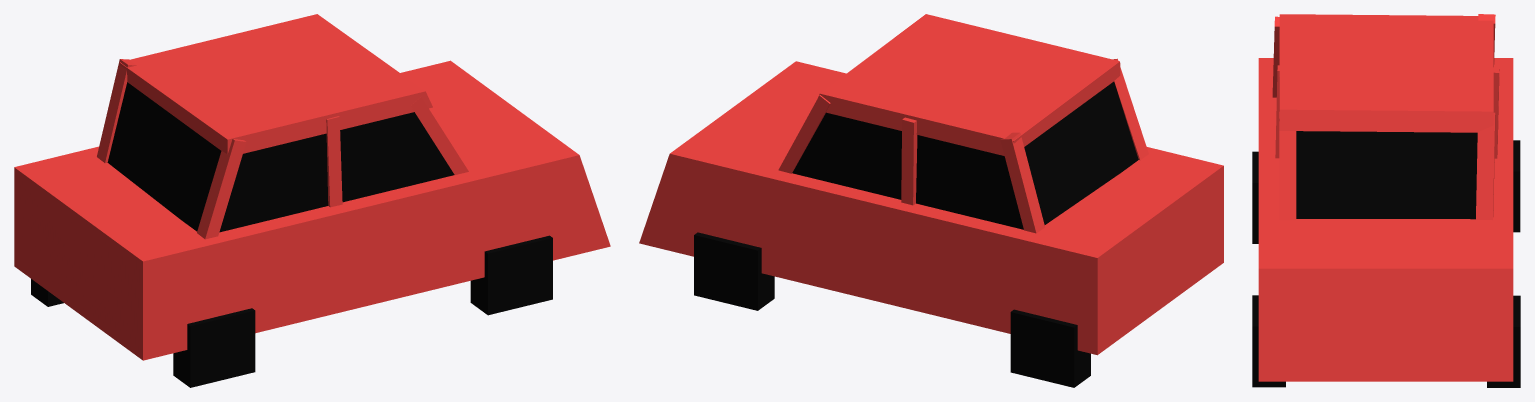
File: Car.fbx
3 renders of one model, left to right at view 1: azimuth 30°, elevation 25°; view 2: azimuth 150°, elevation 25°; view 3: azimuth 270°, elevation 25°, orthographic. The views are drawn at different scales.
Parts seen in each view (by area): view 1: CarBody, CarBody.002, carwind, Cube.002, Cube.003, Cube.008, Cube.007, Cube.009, Cube.001; view 2: CarBody, CarBody.002, carwind, Cube.004, Cube.005, Cube.007, Cube.010, Cube.006, Cube.008; view 3: CarBody, CarBody.002, carwind, Cube.006, Cube.001, Cube.004, Cube.003, Cube.005, Cube.002, Cube.010, Cube.008, Cube.009.
Boxes of the visible parts, left/top/right/bottom form: CarBody: left=14, top=60, right=610, bottom=360; CarBody.002: left=119, top=14, right=432, bottom=154; carwind: left=107, top=82, right=454, bottom=232; Cube.002: left=173, top=308, right=255, bottom=387; Cube.003: left=470, top=235, right=552, bottom=315; Cube.008: left=197, top=139, right=246, bottom=239; Cube.007: left=97, top=59, right=136, bottom=163; Cube.009: left=326, top=116, right=342, bottom=207; Cube.001: left=411, top=97, right=468, bottom=174; CarBody: left=639, top=61, right=1223, bottom=355; CarBody.002: left=818, top=14, right=1120, bottom=155; carwind: left=792, top=81, right=1138, bottom=229; Cube.004: left=694, top=232, right=774, bottom=310; Cube.005: left=1010, top=309, right=1090, bottom=387; Cube.007: left=1000, top=132, right=1044, bottom=233; Cube.010: left=901, top=117, right=917, bottom=205; Cube.006: left=778, top=95, right=830, bottom=173; Cube.008: left=1113, top=58, right=1148, bottom=159; CarBody: left=1258, top=58, right=1513, bottom=381; CarBody.002: left=1279, top=14, right=1493, bottom=132; carwind: left=1296, top=131, right=1477, bottom=219; Cube.006: left=1476, top=112, right=1495, bottom=220; Cube.001: left=1279, top=112, right=1296, bottom=220; Cube.004: left=1487, top=295, right=1520, bottom=387; Cube.003: left=1252, top=295, right=1285, bottom=387; Cube.005: left=1513, top=140, right=1520, bottom=232; Cube.002: left=1252, top=151, right=1258, bottom=243; Cube.010: left=1493, top=67, right=1499, bottom=158; Cube.008: left=1272, top=16, right=1279, bottom=97; Cube.009: left=1275, top=65, right=1279, bottom=158.
Bounding box in the file's own units: 460 × 213 × 232.
